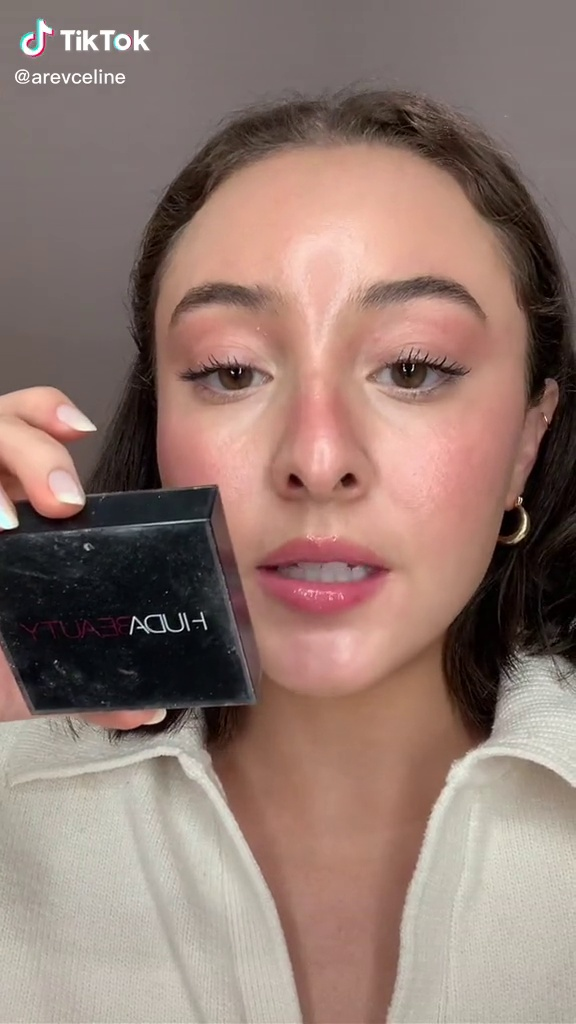train' :'yolo_data/train/images',: (2, 477, 275, 733)
